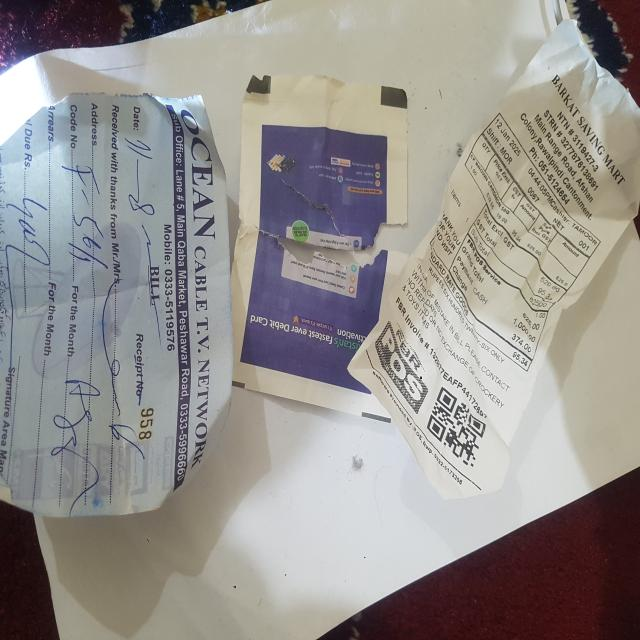electronic: (347, 18, 639, 501), (0, 91, 233, 518), (231, 224, 409, 420), (238, 74, 408, 244)
